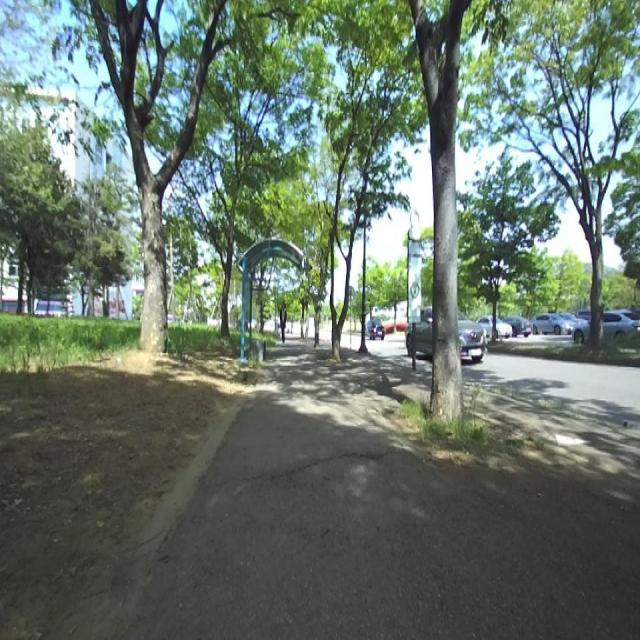sidewalk: (130, 342, 640, 640)
